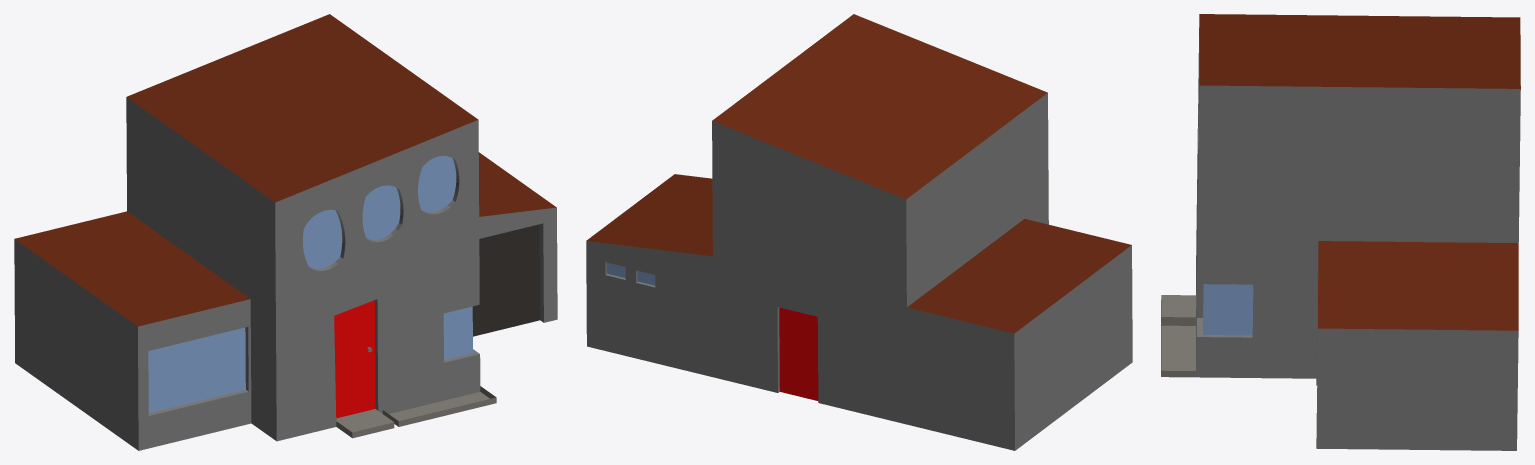
Rendered from casa.obj.
3 renders of one model, left to right at view 1: azimuth 30°, elevation 25°; view 2: azimuth 150°, elevation 25°; view 3: azimuth 270°, elevation 25°, orthographic. The views are drawn at different scales.
Parts seen in each view (by area): view 1: obj11, obj4, obj2, obj23, obj21, obj20, obj25, obj189, obj16, obj188, obj6, obj110 (+7 smaller); view 2: obj24, obj4, obj2, obj23, obj21, obj6, obj174; view 3: obj3, obj5, obj4, obj6, obj172, obj30, obj14, obj11.
Boxes of the visible parts, x1,y1,x2,y2 form: obj11: (275,120,480,441); obj4: (127,14,478,202); obj2: (126,97,276,440); obj23: (14,239,138,450); obj21: (14,211,249,326); obj20: (138,299,251,450); obj25: (148,327,245,412); obj189: (472,224,540,336); obj16: (334,300,375,418); obj188: (479,207,557,322); obj6: (478,152,556,216); obj110: (303,209,342,268); obj24: (586,121,1014,450); obj4: (712,14,1047,199); obj2: (906,93,1048,306); obj23: (1014,245,1132,450); obj21: (907,219,1131,333); obj6: (586,174,712,256); obj174: (779,307,818,400); obj3: (1196,85,1520,378); obj5: (1316,328,1518,450); obj4: (1199,14,1520,88); obj6: (1318,241,1518,330); obj172: (1203,284,1253,335); obj30: (1161,325,1195,370); obj14: (1161,295,1196,317); obj11: (1196,28,1199,361).
Bounding box in the file's own units: 17.71 × 10.31 × 11.38.
